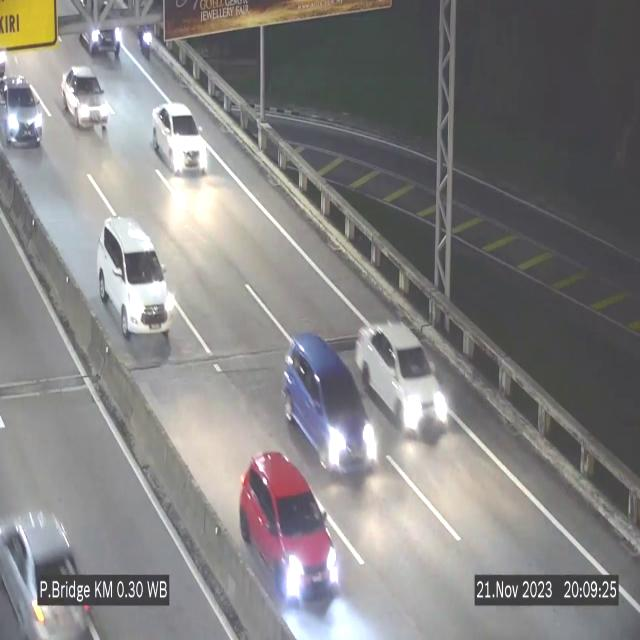Car: (240, 451, 340, 634), (0, 481, 98, 640), (282, 333, 376, 473), (355, 321, 449, 439), (98, 217, 170, 346), (152, 102, 208, 174), (0, 70, 46, 153), (74, 0, 124, 61), (62, 66, 108, 128)
Motorcycle: (134, 15, 158, 70)
